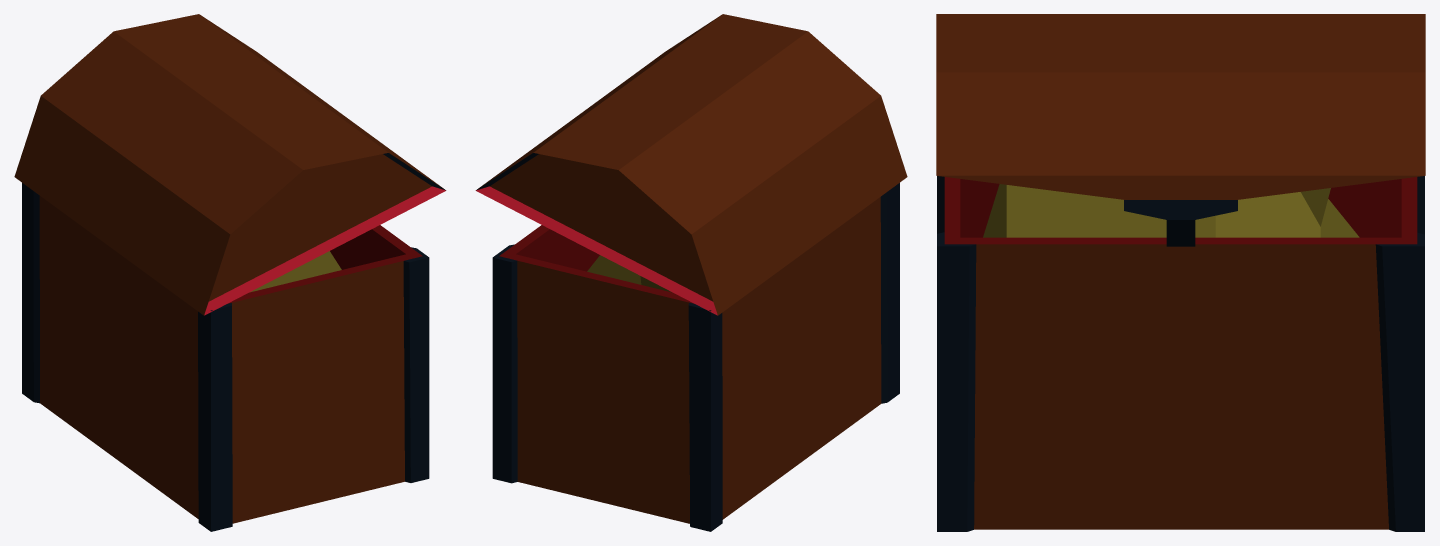
Rendered from treasure2.glb.
3 views of the same model, side by side, from view 1: azimuth 30°, elevation 25°; view 2: azimuth 150°, elevation 25°; view 3: azimuth 270°, elevation 25° (orthographic). The views are drawn at different scales.
Visible parts, largest first — view 1: Cube; view 2: Cube; view 3: Cube.
Boxes of the visible parts, x1,y1,x2,y2 form: Cube: (14, 14, 446, 531); Cube: (475, 14, 907, 531); Cube: (936, 14, 1425, 531).
Bounding box in the file's own units: 2.37 × 3.07 × 3.11.
1 material, 1 textured.
